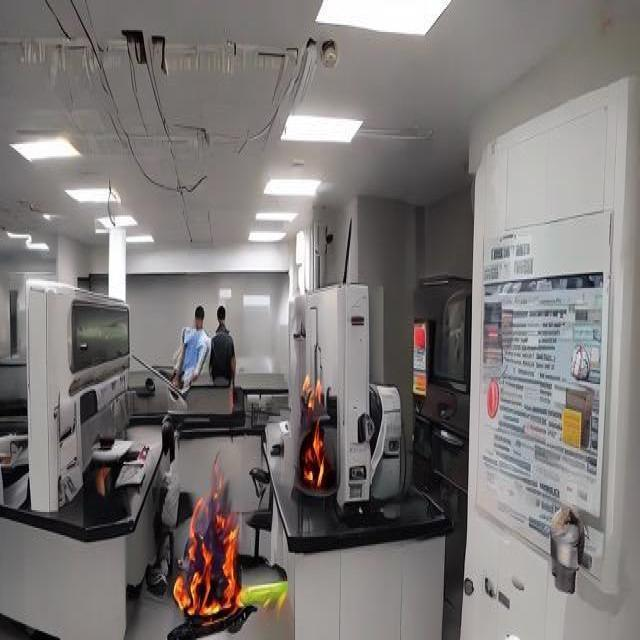smoke: (170, 471, 253, 624), (289, 344, 330, 492)
